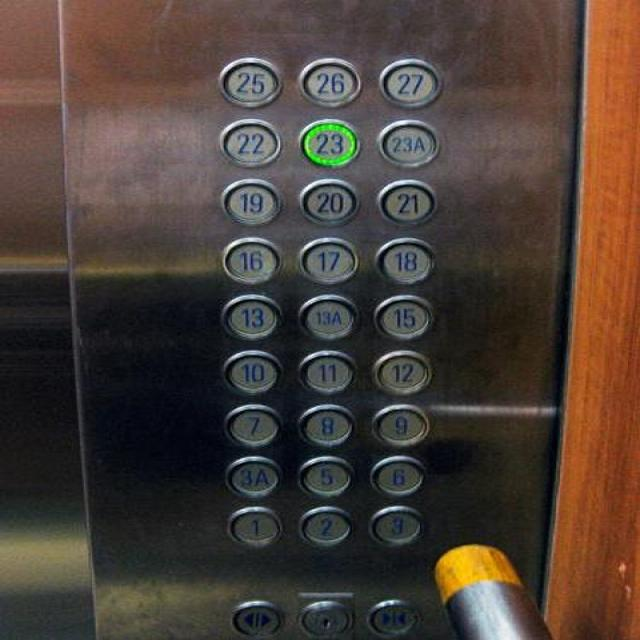1: (225, 505, 284, 546)
10: (223, 349, 280, 394)
11: (297, 348, 355, 393)
12: (371, 349, 429, 394)
13: (223, 292, 280, 337)
13A: (297, 293, 355, 338)
15: (374, 294, 434, 340)
16: (218, 234, 282, 284)
17: (292, 236, 359, 284)
18: (375, 234, 437, 286)
19: (220, 175, 283, 227)
2: (295, 505, 353, 546)
20: (297, 174, 360, 226)
21: (375, 176, 437, 228)
22: (219, 116, 281, 168)
23: (297, 116, 360, 168)
23A: (376, 116, 439, 168)
25: (217, 55, 283, 110)
26: (296, 55, 361, 107)
27: (377, 56, 443, 108)
3: (365, 504, 424, 545)
3A: (224, 454, 283, 497)
5: (295, 454, 353, 497)
6: (369, 454, 428, 495)
7: (224, 402, 281, 448)
8: (297, 404, 356, 445)
9: (371, 403, 429, 444)
close: (362, 598, 418, 637)
keyhole: (296, 600, 352, 639)
open: (230, 599, 286, 638)
